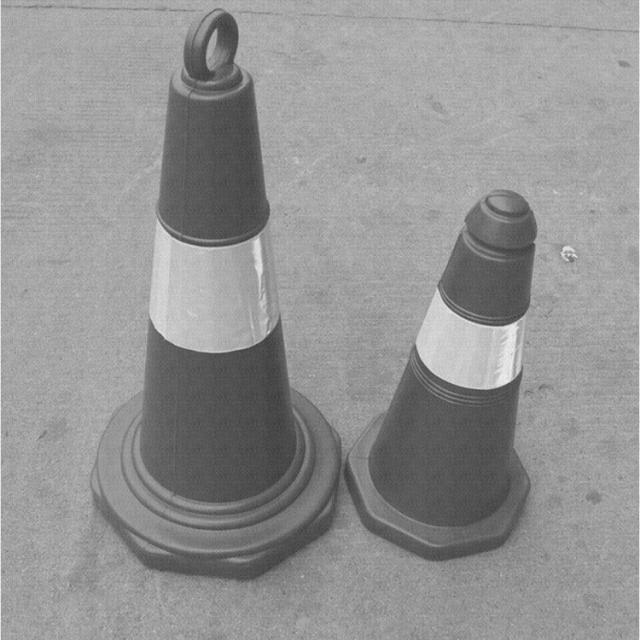reflective_cone: (94, 65, 342, 580), (339, 189, 541, 564)
